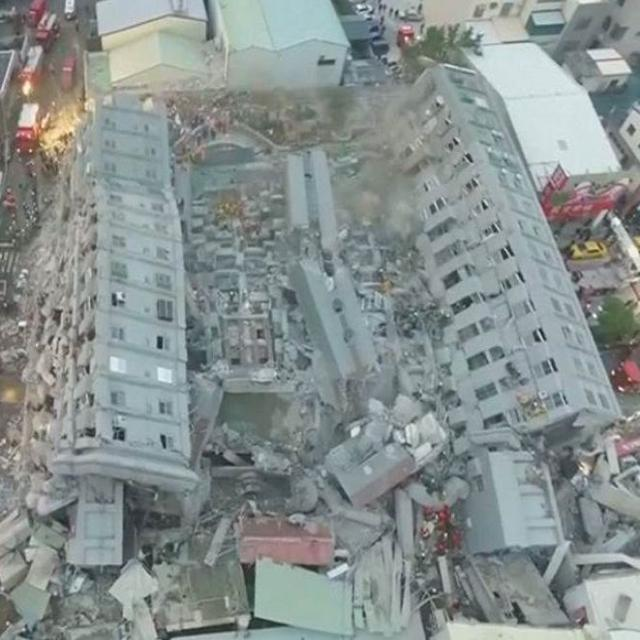collapsed_building: (43, 88, 547, 485)
